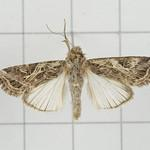Spodoptera litura: (1, 18, 150, 121)
